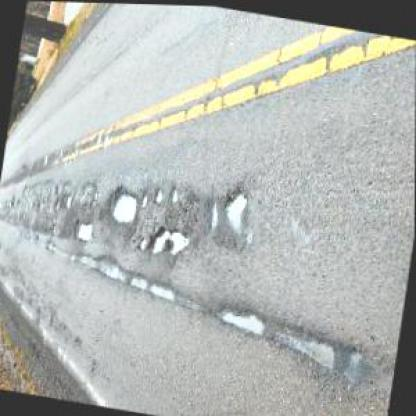pothole: (272, 323, 340, 369), (146, 220, 192, 258), (101, 183, 139, 223), (218, 304, 268, 334), (219, 183, 247, 229), (90, 252, 126, 280), (146, 277, 178, 301), (70, 218, 96, 241), (205, 196, 222, 228), (151, 184, 167, 202), (168, 184, 179, 202), (62, 193, 74, 209), (138, 192, 150, 206)
